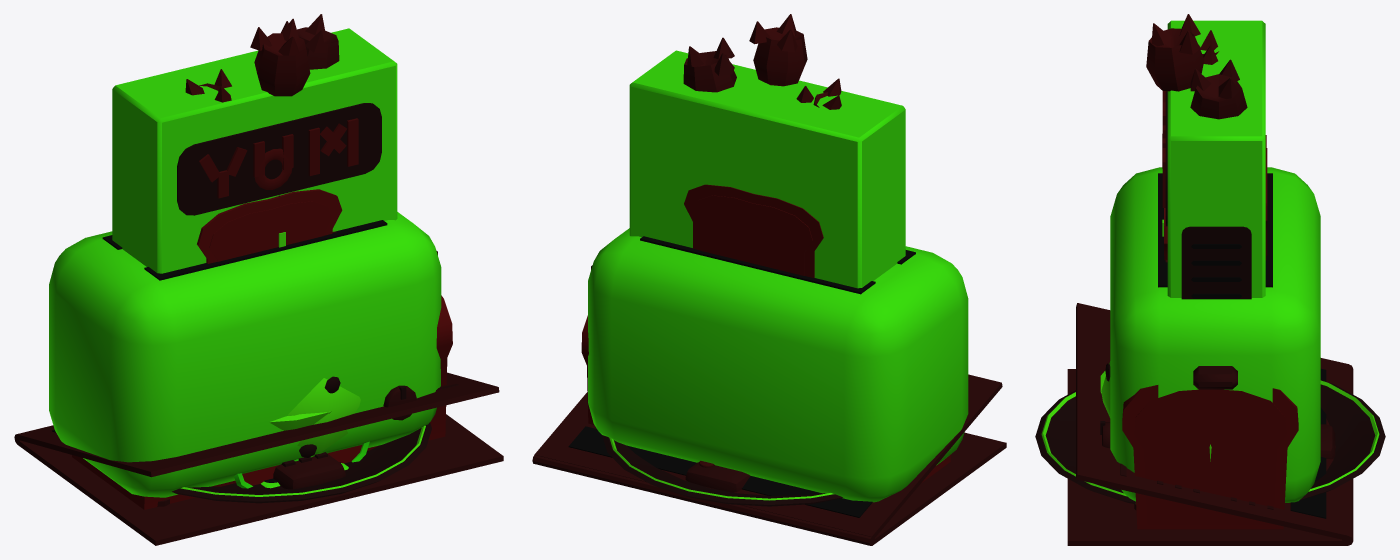
3 views of the same model, side by side, from view 1: azimuth 30°, elevation 25°; view 2: azimuth 150°, elevation 25°; view 3: azimuth 270°, elevation 25° (orthographic). The views are drawn at different scales.
Visible parts, largest first — view 1: toaster, cereal_box, newspaper, vase_tulips, plate, teapot, bread_loaf, tv_remote, glasses, bowl_of_cereal; view 2: toaster, cereal_box, newspaper, vase_tulips, plate, tv_remote; view 3: toaster, cereal_box, newspaper, bread_loaf, plate, vase_tulips, tv_remote.
Part boxes in pixels (x1,y1,x2,y2): toaster: [49, 189, 441, 506]; cereal_box: [112, 28, 397, 273]; newspaper: [14, 372, 503, 545]; vase_tulips: [185, 14, 339, 102]; plate: [172, 422, 431, 503]; teapot: [288, 376, 360, 457]; bread_loaf: [72, 295, 452, 509]; tv_remote: [273, 452, 345, 489]; glasses: [234, 441, 369, 488]; bowl_of_cereal: [269, 411, 331, 430]; toaster: [588, 184, 968, 502]; cereal_box: [629, 50, 905, 288]; newspaper: [532, 374, 1006, 545]; vase_tulips: [683, 14, 841, 109]; plate: [602, 435, 842, 506]; tv_remote: [685, 460, 750, 492]; toaster: [1100, 135, 1320, 510]; cereal_box: [1162, 20, 1265, 299]; newspaper: [1067, 303, 1353, 545]; bread_loaf: [1122, 385, 1298, 529]; plate: [1035, 380, 1385, 504]; vase_tulips: [1146, 14, 1247, 119]; tv_remote: [1320, 424, 1335, 459].
Size of what is drawn, in the model's own units: 0.29 by 0.3468 by 0.25.
